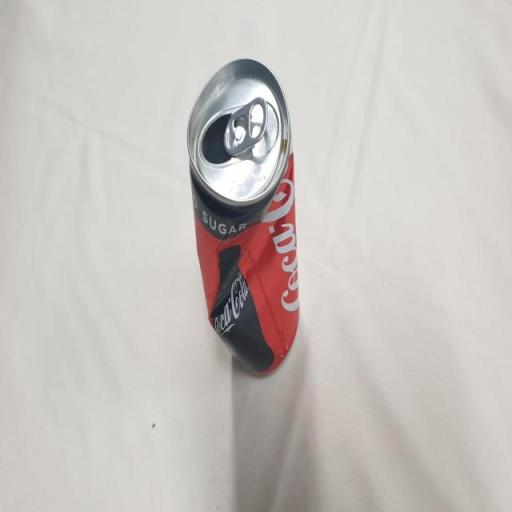metal: (170, 32, 340, 431)
